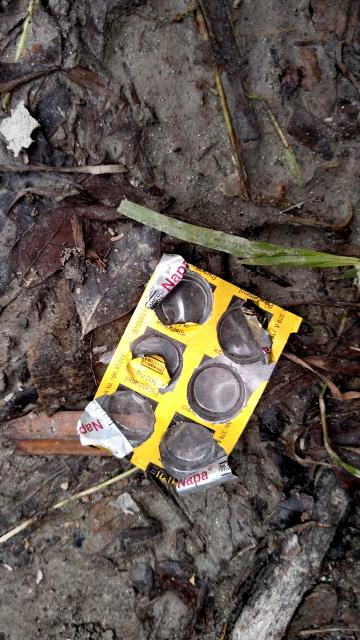medicine: (48, 235, 325, 527)
